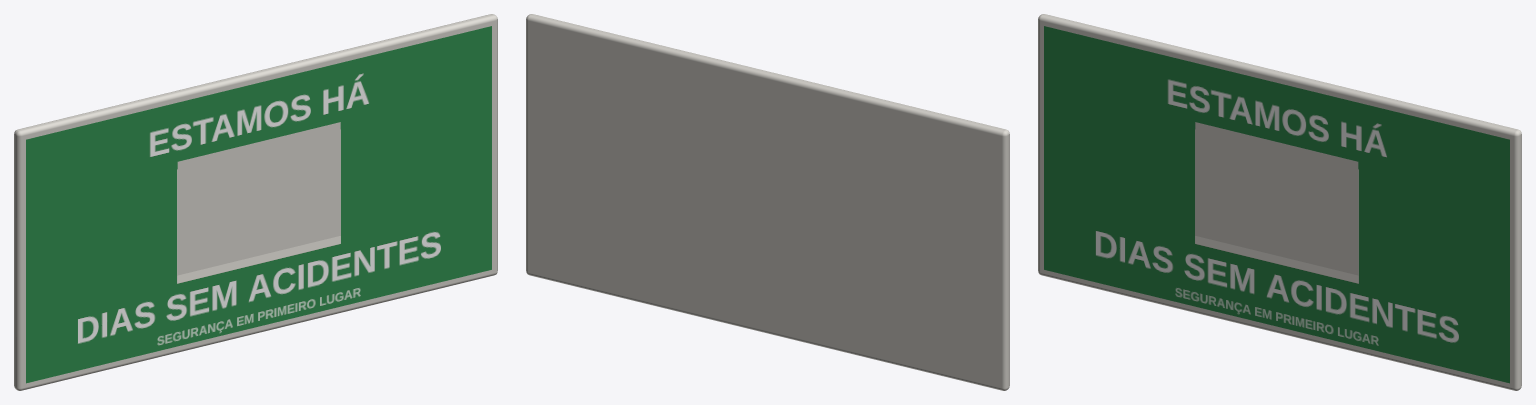
File: placa_dias_sem_acidente.glb
The picture shows the model from 3 angles, left to right: view 1: azimuth 30°, elevation 25°; view 2: azimuth 150°, elevation 25°; view 3: azimuth 330°, elevation 25°; orthographic projection.
Visible parts, largest first — view 1: face, numero, moldura; view 2: moldura; view 3: face, numero, moldura.
Boxes of the visible parts, x1=… form: face: x1=26, y1=26, x2=491, y2=383; numero: x1=177, y1=122, x2=340, y2=275; moldura: x1=14, y1=14, x2=497, y2=390; moldura: x1=526, y1=14, x2=1009, y2=390; face: x1=1044, y1=26, x2=1509, y2=383; numero: x1=1195, y1=122, x2=1358, y2=275; moldura: x1=1038, y1=14, x2=1521, y2=390.
Bounding box in the file's own units: 2.48 × 1.28 × 0.054.
2 materials, 1 textured.
